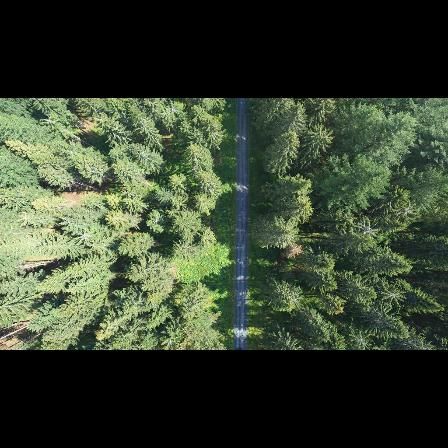Sick: (355, 215, 385, 242), (378, 282, 406, 308), (394, 200, 420, 222), (349, 329, 375, 349), (77, 224, 96, 245)
